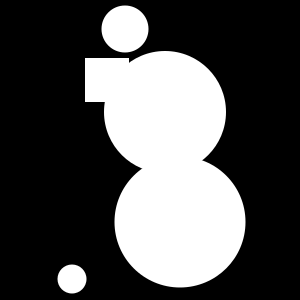circle: (85, 58, 129, 102)
rectangle: (114, 157, 246, 288), (104, 51, 226, 173), (102, 5, 148, 52), (57, 264, 86, 294)
